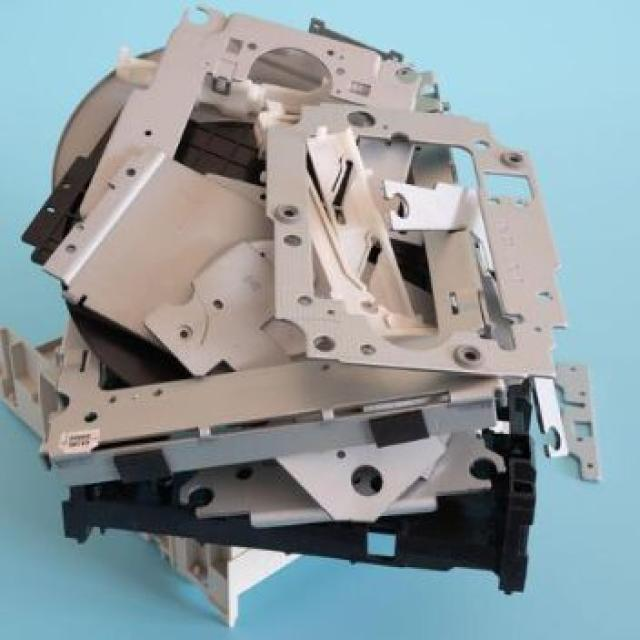electronic: (0, 0, 602, 625)
